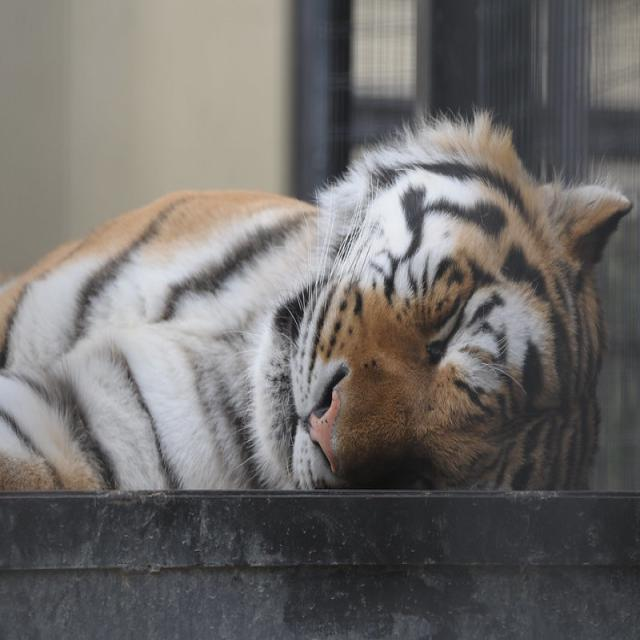Tiger: (0, 104, 634, 492)
